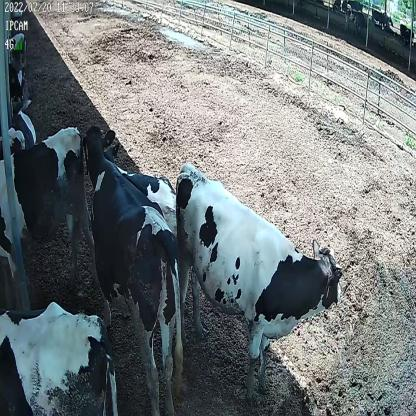cow: (175, 160, 344, 404), (79, 122, 186, 416)
